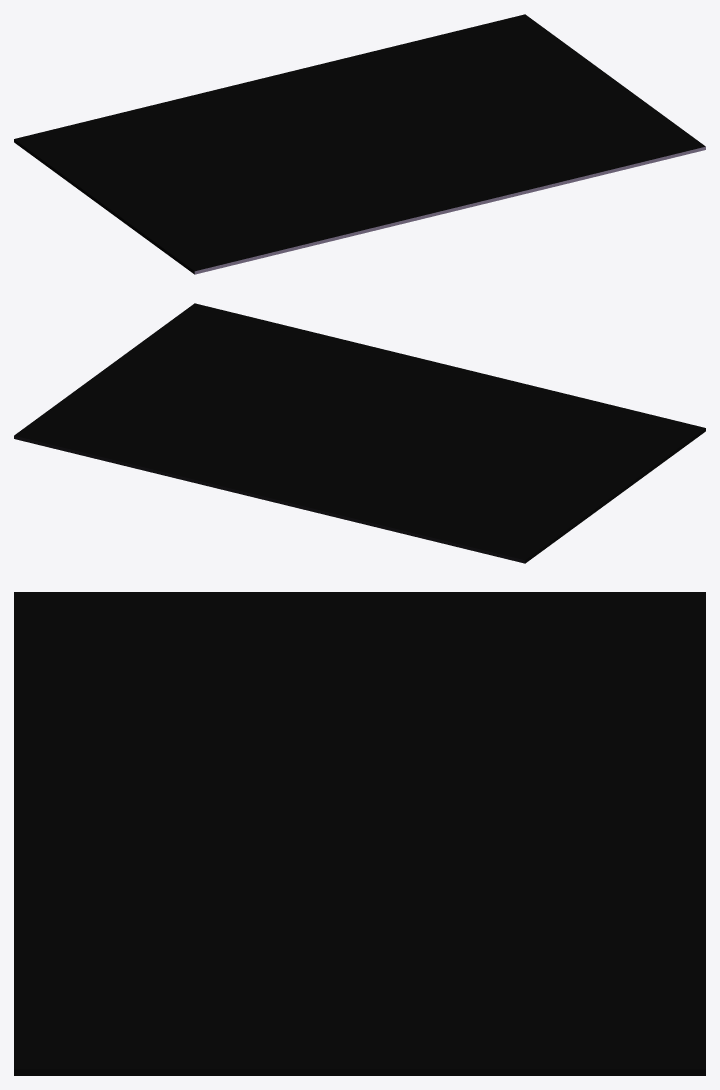
The model's file is Ceiling01.fbx.
The picture shows the model from 3 angles, top to bottom: view 1: azimuth 30°, elevation 25°; view 2: azimuth 150°, elevation 25°; view 3: azimuth 270°, elevation 25°; orthographic projection. The views are drawn at different scales.
Parts seen in each view (by area): view 1: Roof_Emission; view 2: Roof_Emission; view 3: Roof_Emission.
Part boxes in pixels (x1,y1,x2,y2): Roof_Emission: (14,14,705,274); Roof_Emission: (14,303,705,563); Roof_Emission: (14,592,705,1075).
Bounding box in the file's own units: 702 × 4.37 × 430.
